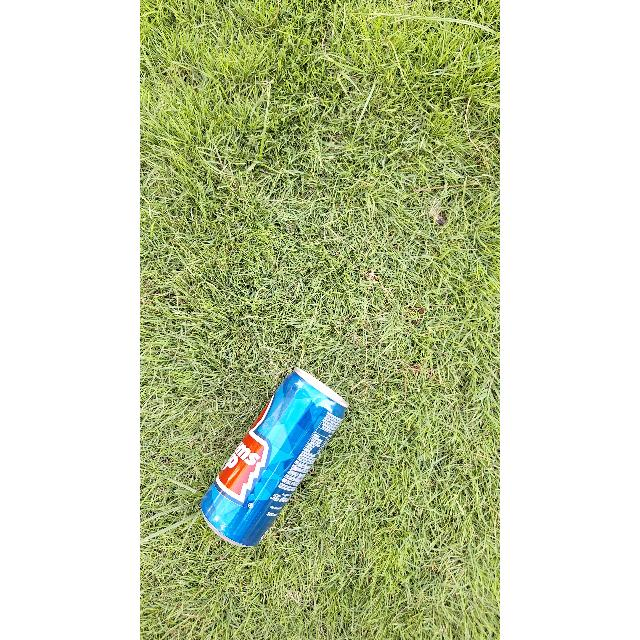Thums Up: (186, 368, 347, 550)
